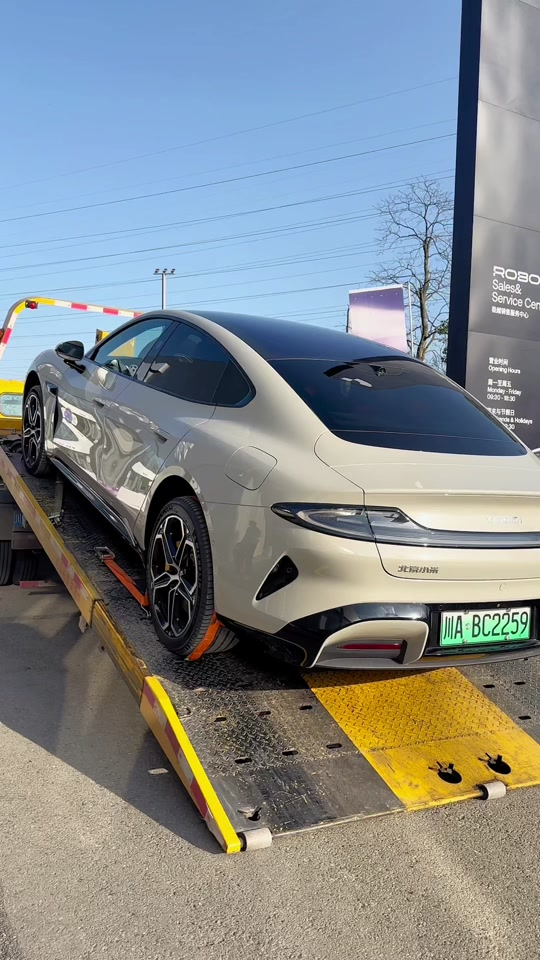su7: (16, 313, 540, 672)
